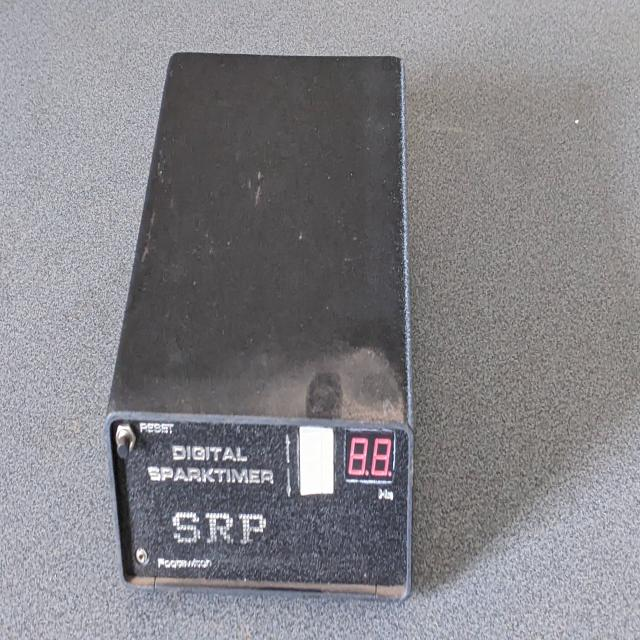SRP Digital Spark Timer: (95, 36, 426, 616)
